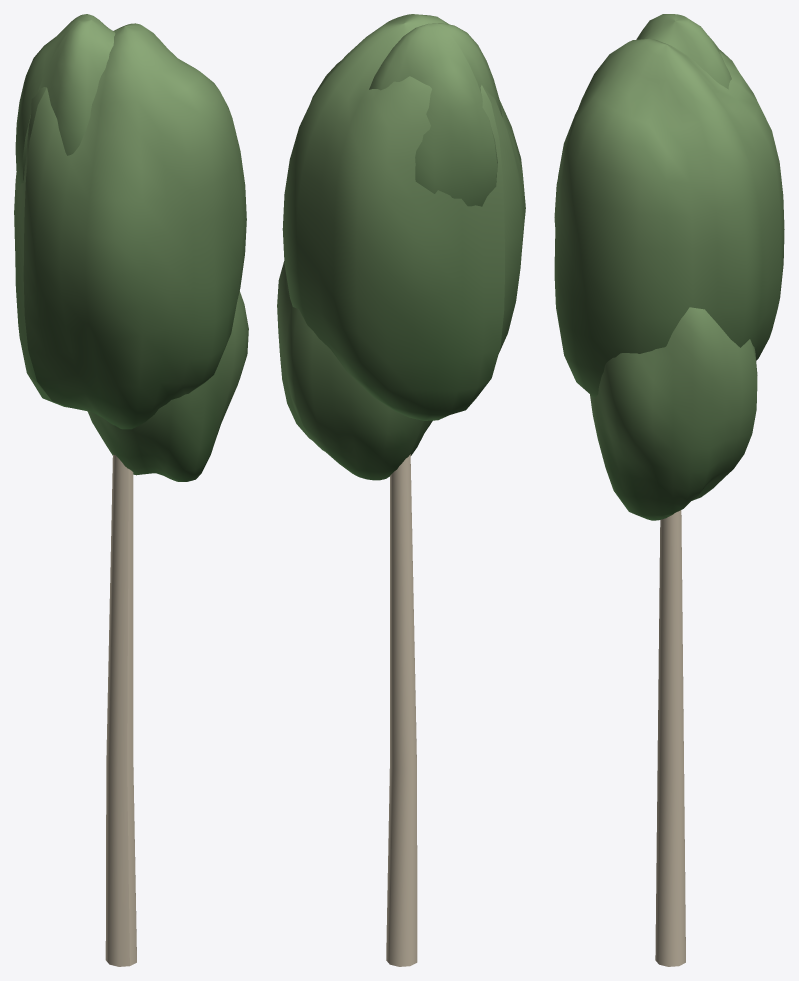
The model's file is arvore-eucalipto.glb.
3 views of the same model, side by side, from view 1: azimuth 30°, elevation 25°; view 2: azimuth 150°, elevation 25°; view 3: azimuth 270°, elevation 25° (orthographic). The views are drawn at different scales.
Parts seen in each view (by area): view 1: arvore-eucalipto; view 2: arvore-eucalipto; view 3: arvore-eucalipto.
Part boxes in pixels (box(x1,y1,x2,y2)): arvore-eucalipto: box(14, 14, 248, 966); arvore-eucalipto: box(277, 14, 525, 966); arvore-eucalipto: box(554, 14, 784, 966).
Size of the model in its own units: 5.21 by 22.04 by 4.96.
